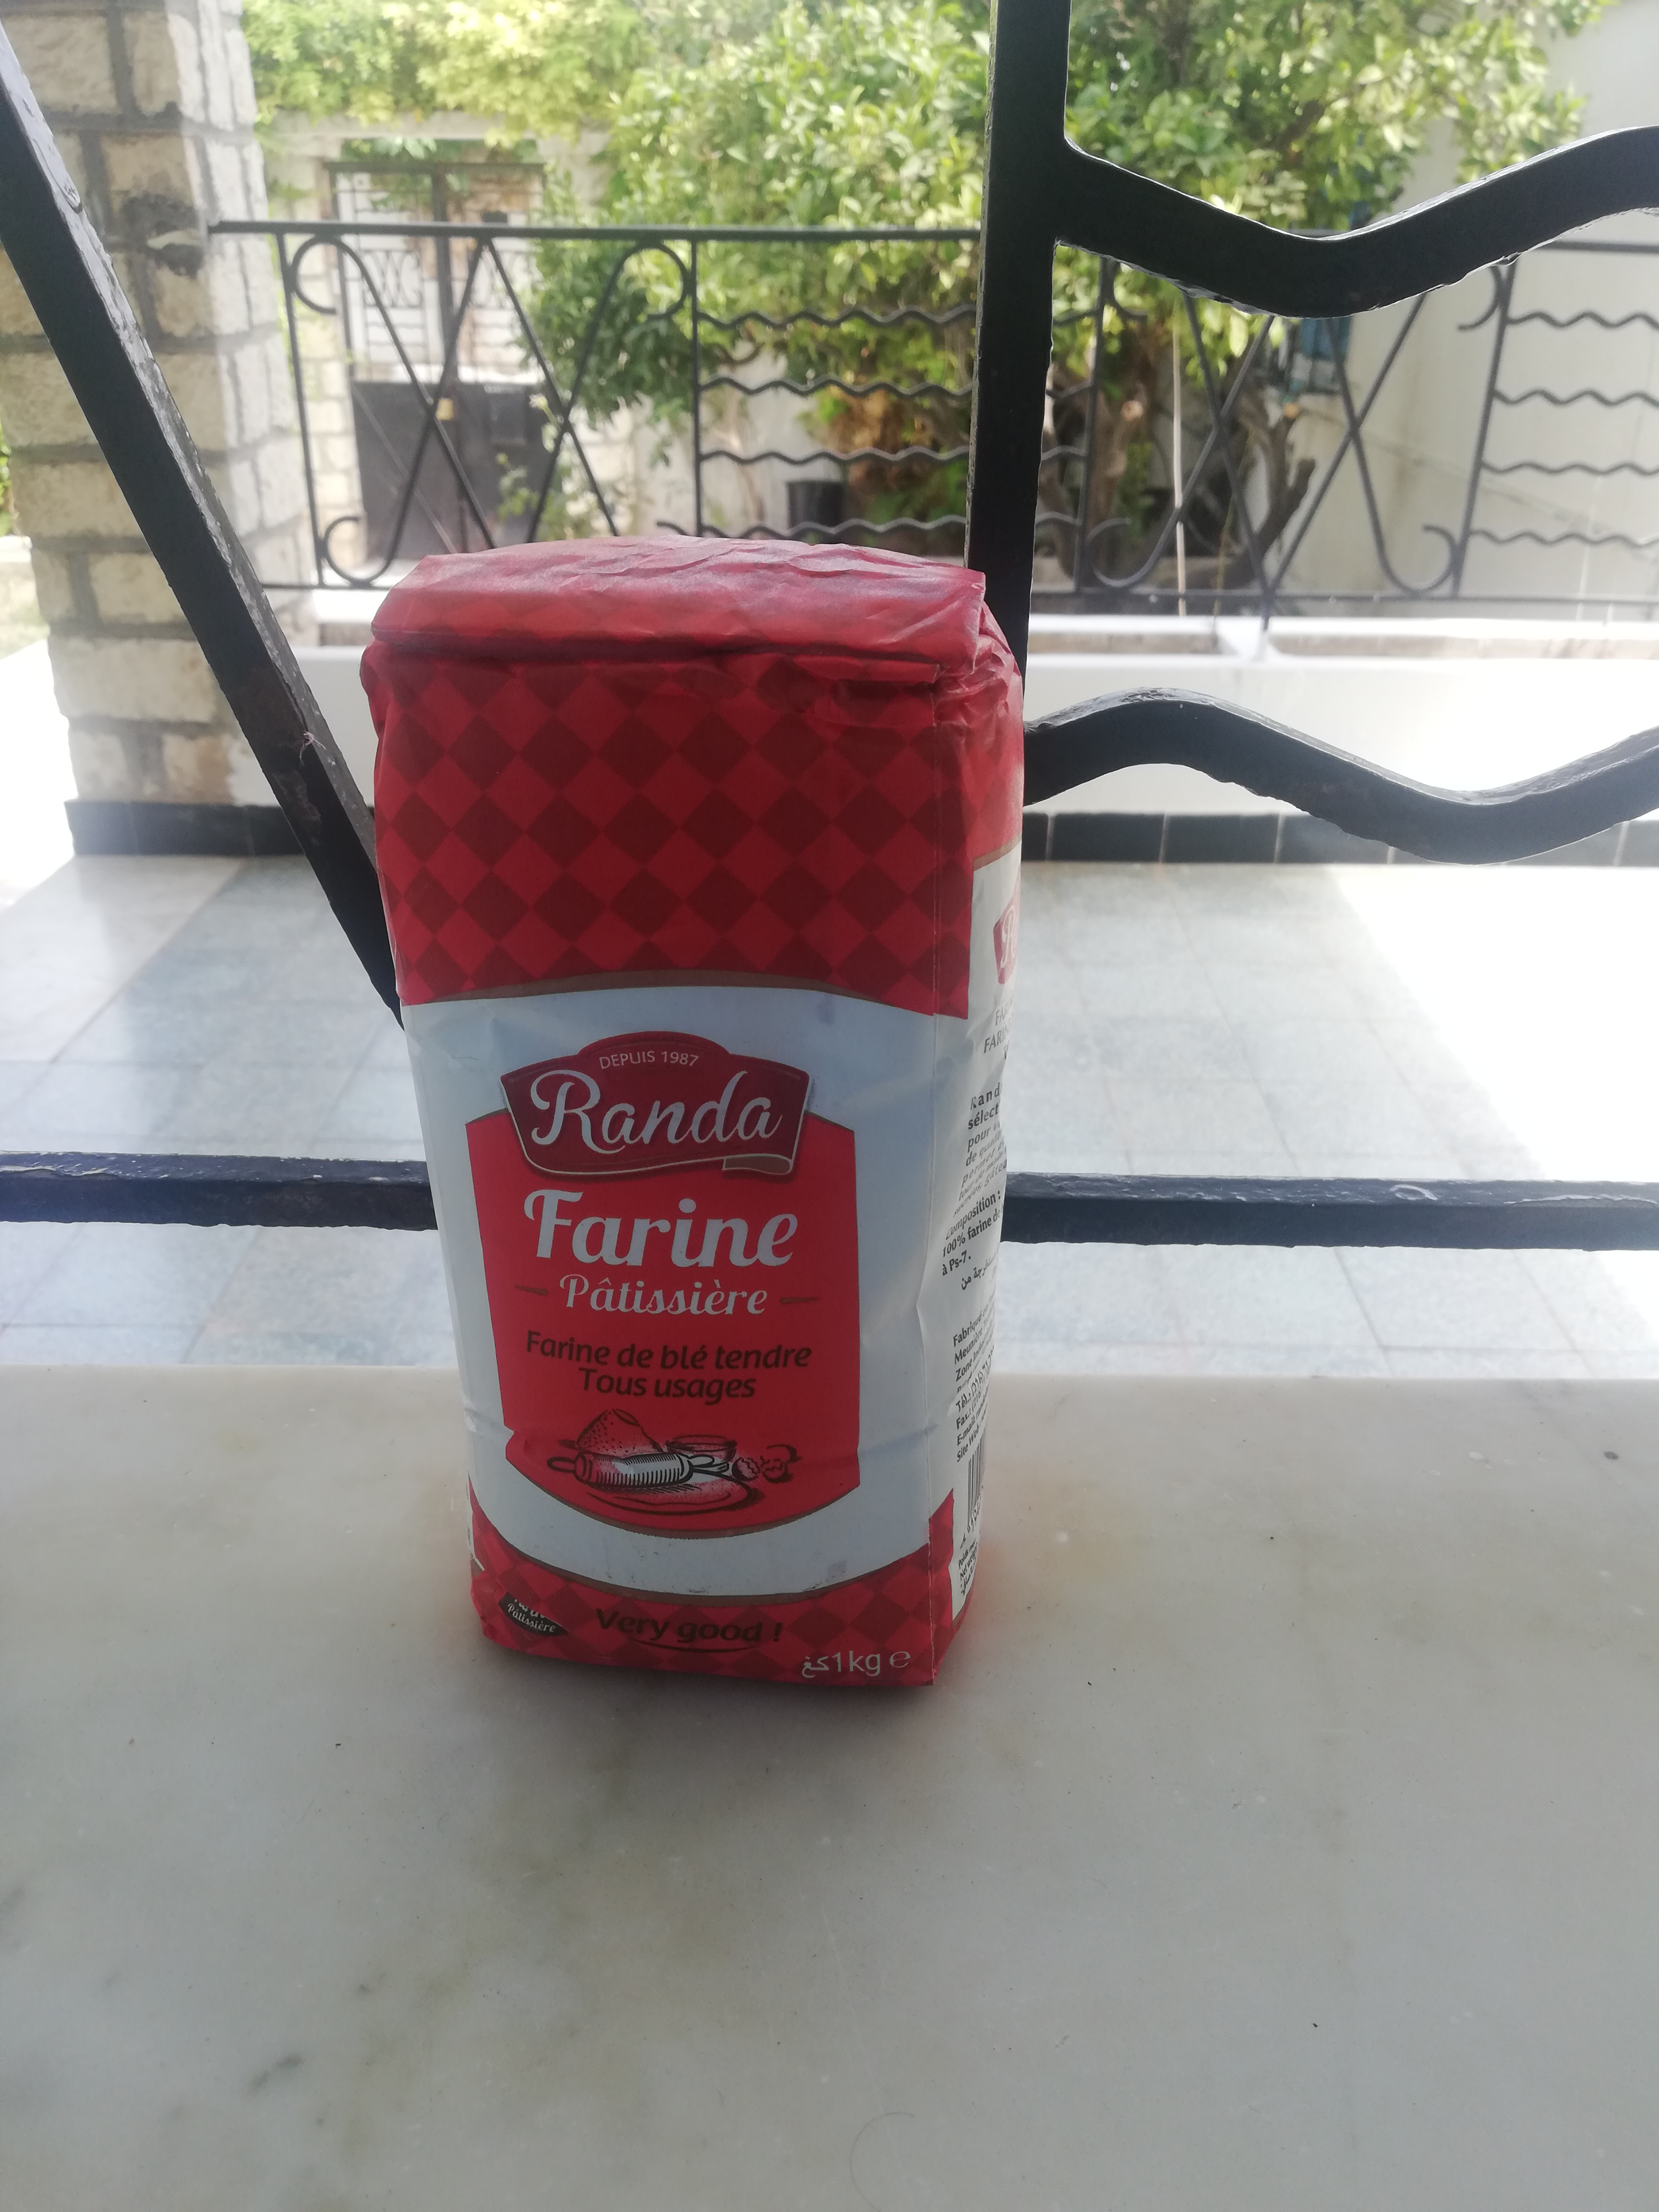Farine Randa: (345, 533, 1035, 1698)
